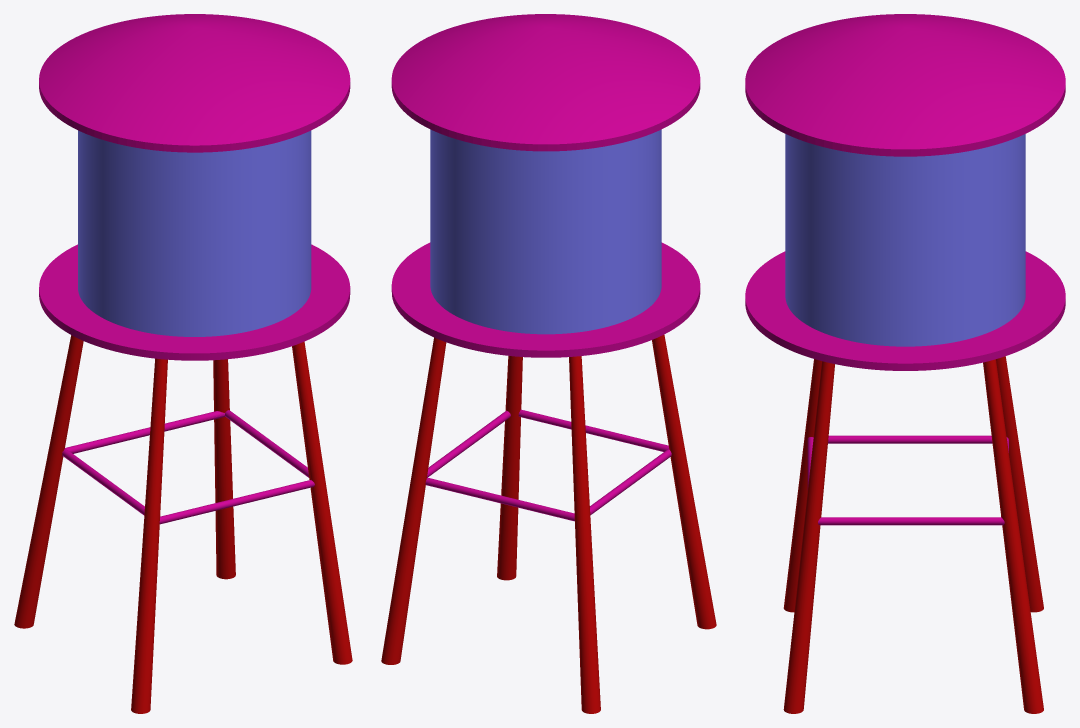
File: watertower.fbx
3 renders of one model, left to right at view 1: azimuth 30°, elevation 25°; view 2: azimuth 150°, elevation 25°; view 3: azimuth 270°, elevation 25°, orthographic. The views are drawn at different scales.
Parts seen in each view (by area): view 1: group_0.001; view 2: group_0.001; view 3: group_0.001.
Boxes of the visible parts, left/top/right/bottom form: group_0.001: left=14, top=14, right=352, bottom=713; group_0.001: left=381, top=14, right=716, bottom=713; group_0.001: left=745, top=14, right=1065, bottom=713.
Bounding box in the file's own units: 800 × 1750 × 800.
